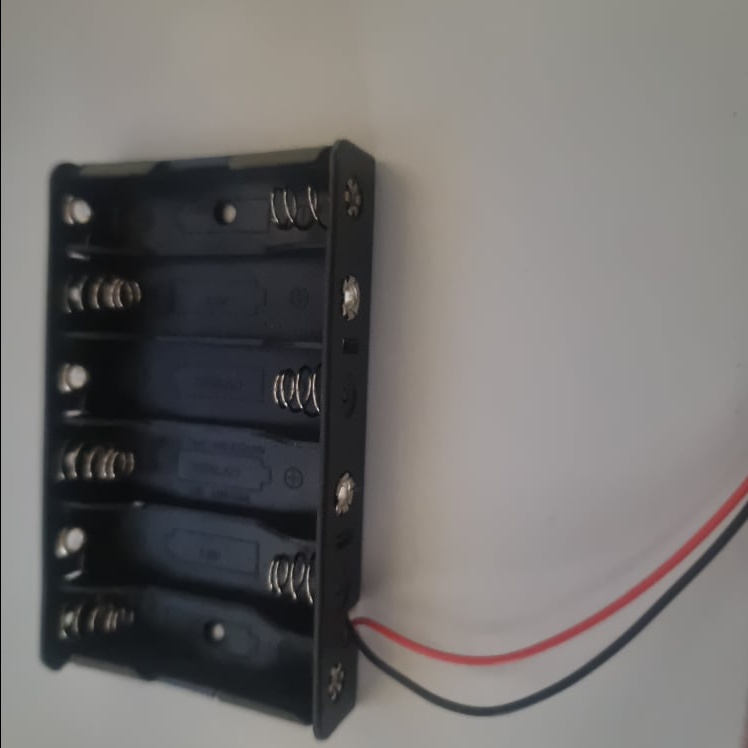BATTERY BOX: (35, 136, 376, 740)
